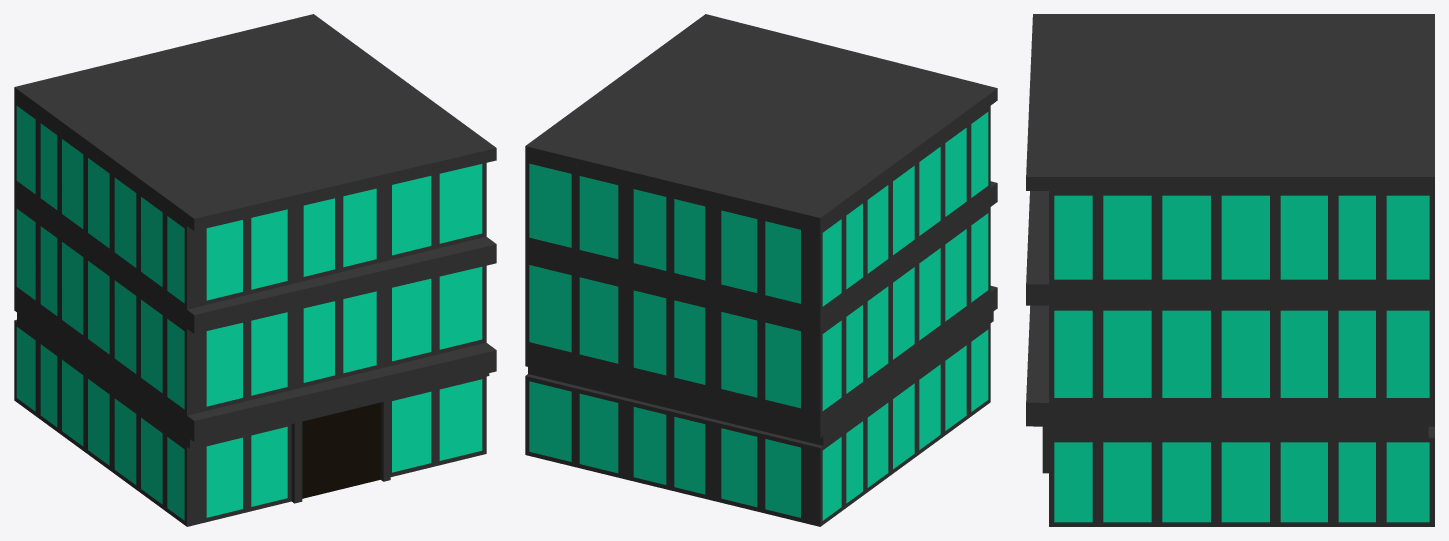
File: MOD_BatF.FBX
3 renders of one model, left to right at view 1: azimuth 30°, elevation 25°; view 2: azimuth 150°, elevation 25°; view 3: azimuth 270°, elevation 25°, orthographic. The views are drawn at different scales.
Parts seen in each view (by area): view 1: Building A001; view 2: Building A001; view 3: Building A001.
Part boxes in pixels (bbox=[...]): Building A001: bbox=[14, 14, 496, 526]; Building A001: bbox=[525, 14, 997, 526]; Building A001: bbox=[1026, 14, 1434, 526].
Size of the model in its own units: 30 by 30 by 31.77.
